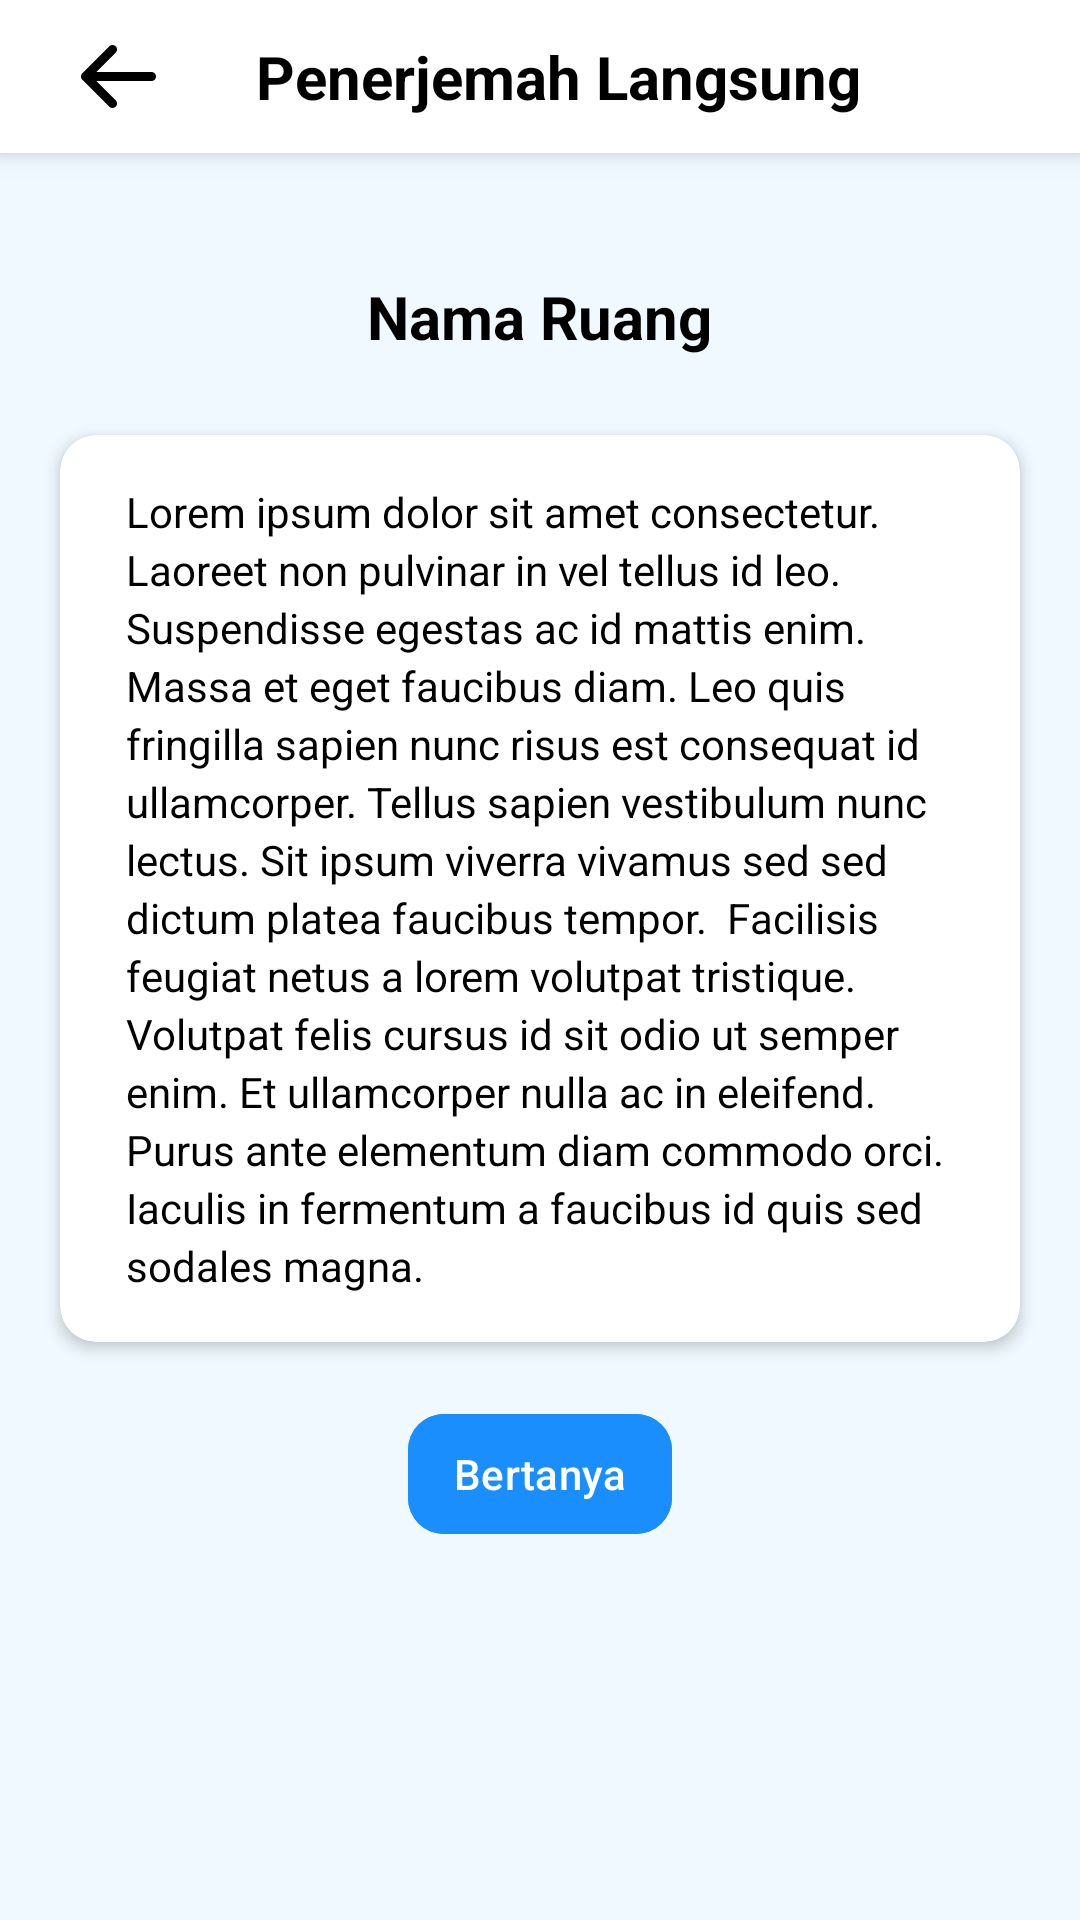

Named icons in this screenshot (1080*1920) and their bounding boxes, (x1, y1, x2, y2):
back: (81, 45, 156, 108)
